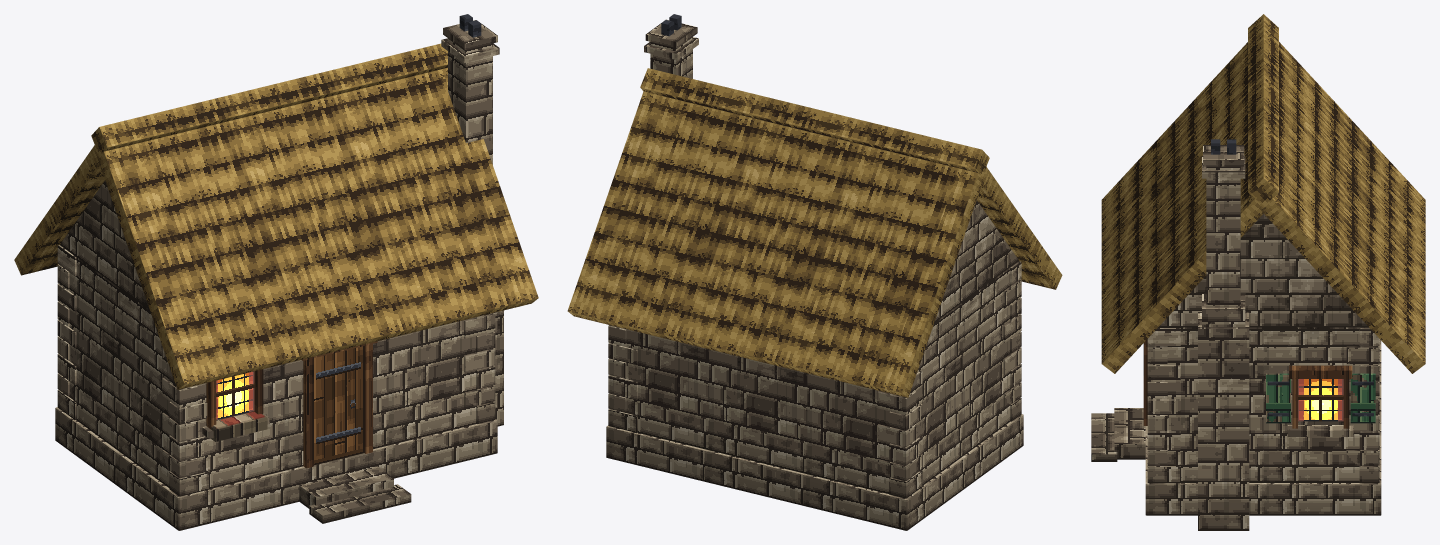
Rendered from MV_Cottage_Thatch_A.glb.
3 views of the same model, side by side, from view 1: azimuth 30°, elevation 25°; view 2: azimuth 150°, elevation 25°; view 3: azimuth 270°, elevation 25° (orthographic). The views are drawn at different scales.
Visible parts, largest first — view 1: MV_Roof_GableThatch_2m_A.MV_Cottage_Thatch_A, MV_Roof_GableThatch_2m_A.MV_Cottage_Thatch_A.002, MV_Roof_GableThatch_2m_A.MV_Cottage_Thatch_A.001, MV_Roof_GableThatchEnd_A.MV_Cottage_Thatch_A, MV_Wall_Stone_2m_A.MV_Cottage_Thatch_A.002, MV_Wall_Stone_2m_A.MV_Cottage_Thatch_A.008, MV_Door_Wood_A.MV_Cottage_Thatch_A, MV_Wall_Stone_2m_A.MV_Cottage_Thatch_A.009, MV_Chimney_Stone_A.MV_Cottage_Thatch_A, MV_Wall_Stone_2m_A.MV_Cottage_Thatch_A, MV_Wall_Gable_Stone_4m_A.MV_Cottage_Thatch_A, MV_Roof_GableThatchEnd_A.MV_Cottage_Thatch_A.001 (+12 smaller); view 2: MV_Roof_GableThatch_2m_A.MV_Cottage_Thatch_A, MV_Roof_GableThatch_2m_A.MV_Cottage_Thatch_A.001, MV_Roof_GableThatch_2m_A.MV_Cottage_Thatch_A.002, MV_Roof_GableThatchEnd_A.MV_Cottage_Thatch_A, MV_Wall_Stone_2m_A.MV_Cottage_Thatch_A.006, MV_Wall_Stone_2m_A.MV_Cottage_Thatch_A.005, MV_Wall_Stone_2m_A.MV_Cottage_Thatch_A.007, MV_Wall_Stone_2m_A.MV_Cottage_Thatch_A.009, MV_Wall_Stone_2m_A.MV_Cottage_Thatch_A.008, MV_Roof_GableThatchEnd_A.MV_Cottage_Thatch_A.001, MV_Wall_Gable_Stone_4m_A.MV_Cottage_Thatch_A, MV_Quoin_Stone_A.MV_Cottage_Thatch_A.003 (+8 smaller); view 3: MV_Chimney_Stone_A.MV_Cottage_Thatch_A, MV_Roof_GableThatch_2m_A.MV_Cottage_Thatch_A, MV_Roof_GableThatch_2m_A.MV_Cottage_Thatch_A.001, MV_Roof_GableThatch_2m_A.MV_Cottage_Thatch_A.002, MV_Roof_GableThatchEnd_A.MV_Cottage_Thatch_A.001, MV_Wall_Gable_Stone_4m_A.MV_Cottage_Thatch_A.001, MV_Wall_Stone_2m_A.MV_Cottage_Thatch_A.004, MV_Window_Shutter_A.MV_Cottage_Thatch_A, MV_Wall_Stone_2m_A.MV_Cottage_Thatch_A.003, MV_Quoin_Stone_A.MV_Cottage_Thatch_A.001, MV_Foundation_Stone_2m_A.MV_Cottage_Thatch_A.009, MV_Roof_GableThatchEnd_A.MV_Cottage_Thatch_A (+4 smaller).
Boxes of the visible parts, left/top/right/bottom form: MV_Roof_GableThatch_2m_A.MV_Cottage_Thatch_A: left=42, top=96, right=309, bottom=384; MV_Roof_GableThatch_2m_A.MV_Cottage_Thatch_A.002: left=328, top=45, right=517, bottom=333; MV_Roof_GableThatch_2m_A.MV_Cottage_Thatch_A.001: left=224, top=71, right=413, bottom=359; MV_Roof_GableThatchEnd_A.MV_Cottage_Thatch_A: left=14, top=122, right=205, bottom=389; MV_Wall_Stone_2m_A.MV_Cottage_Thatch_A.002: left=388, top=313, right=492, bottom=445; MV_Wall_Stone_2m_A.MV_Cottage_Thatch_A.008: left=64, top=248, right=120, bottom=451; MV_Door_Wood_A.MV_Cottage_Thatch_A: left=301, top=341, right=377, bottom=468; MV_Wall_Stone_2m_A.MV_Cottage_Thatch_A.009: left=120, top=289, right=192, bottom=487; MV_Chimney_Stone_A.MV_Cottage_Thatch_A: left=441, top=14, right=503, bottom=426; MV_Wall_Stone_2m_A.MV_Cottage_Thatch_A: left=180, top=364, right=284, bottom=488; MV_Wall_Gable_Stone_4m_A.MV_Cottage_Thatch_A: left=60, top=181, right=149, bottom=309; MV_Roof_GableThatchEnd_A.MV_Cottage_Thatch_A.001: left=433, top=43, right=538, bottom=308; MV_Roof_GableThatch_2m_A.MV_Cottage_Thatch_A: left=784, top=121, right=1035, bottom=392; MV_Roof_GableThatch_2m_A.MV_Cottage_Thatch_A.001: left=685, top=97, right=863, bottom=368; MV_Roof_GableThatch_2m_A.MV_Cottage_Thatch_A.002: left=587, top=73, right=765, bottom=344; MV_Roof_GableThatchEnd_A.MV_Cottage_Thatch_A: left=882, top=145, right=1062, bottom=397; MV_Wall_Stone_2m_A.MV_Cottage_Thatch_A.006: left=709, top=349, right=807, bottom=473; MV_Wall_Stone_2m_A.MV_Cottage_Thatch_A.005: left=623, top=329, right=708, bottom=449; MV_Wall_Stone_2m_A.MV_Cottage_Thatch_A.007: left=807, top=373, right=892, bottom=493; MV_Wall_Stone_2m_A.MV_Cottage_Thatch_A.009: left=962, top=261, right=1018, bottom=455; MV_Wall_Stone_2m_A.MV_Cottage_Thatch_A.008: left=893, top=302, right=962, bottom=485; MV_Roof_GableThatchEnd_A.MV_Cottage_Thatch_A.001: left=567, top=68, right=667, bottom=320; MV_Wall_Gable_Stone_4m_A.MV_Cottage_Thatch_A: left=934, top=200, right=1018, bottom=322; MV_Quoin_Stone_A.MV_Cottage_Thatch_A.003: left=878, top=370, right=922, bottom=498; MV_Chimney_Stone_A.MV_Cottage_Thatch_A: left=1198, top=139, right=1249, bottom=530; MV_Roof_GableThatch_2m_A.MV_Cottage_Thatch_A: left=1101, top=23, right=1425, bottom=257; MV_Roof_GableThatch_2m_A.MV_Cottage_Thatch_A.001: left=1101, top=72, right=1425, bottom=305; MV_Roof_GableThatch_2m_A.MV_Cottage_Thatch_A.002: left=1101, top=120, right=1425, bottom=353; MV_Roof_GableThatchEnd_A.MV_Cottage_Thatch_A.001: left=1101, top=169, right=1425, bottom=373; MV_Wall_Gable_Stone_4m_A.MV_Cottage_Thatch_A.001: left=1158, top=213, right=1368, bottom=327; MV_Wall_Stone_2m_A.MV_Cottage_Thatch_A.004: left=1263, top=327, right=1377, bottom=482; MV_Window_Shutter_A.MV_Cottage_Thatch_A: left=1266, top=365, right=1375, bottom=436; MV_Wall_Stone_2m_A.MV_Cottage_Thatch_A.003: left=1149, top=327, right=1263, bottom=482; MV_Quoin_Stone_A.MV_Cottage_Thatch_A.001: left=1147, top=328, right=1180, bottom=483; MV_Foundation_Stone_2m_A.MV_Cottage_Thatch_A.009: left=1260, top=476, right=1380, bottom=515; MV_Roof_GableThatchEnd_A.MV_Cottage_Thatch_A: left=1101, top=14, right=1425, bottom=208.
Size of the model in its own units: 7.1 by 7.34 by 5.84.
9 materials, 9 textured.
